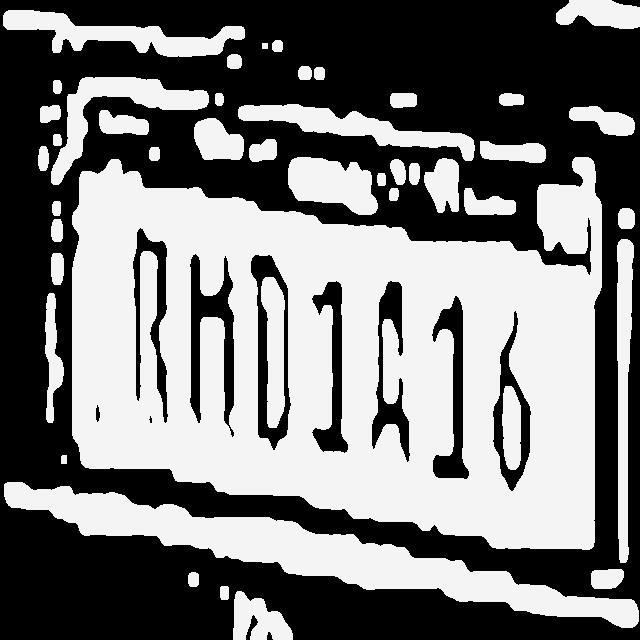1: (426, 295, 471, 487), (306, 278, 349, 457)
6: (489, 304, 536, 492)
a: (368, 279, 414, 466)
d: (250, 249, 296, 452)
h: (186, 246, 240, 437)
r: (129, 228, 176, 426)
